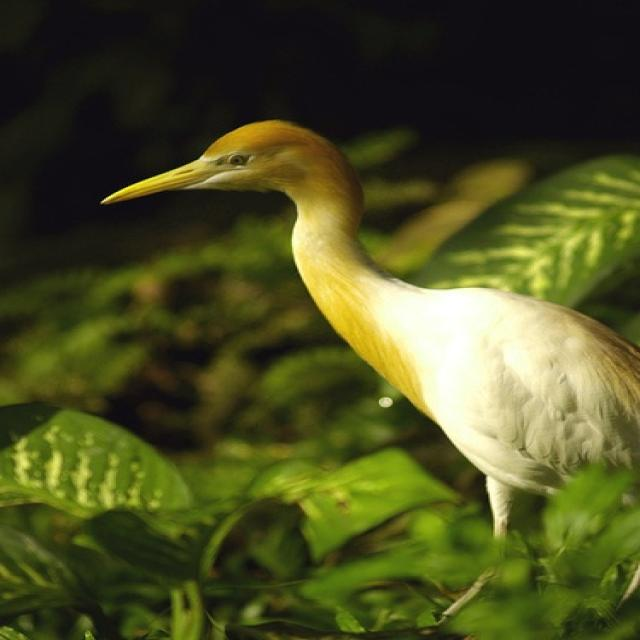bird: (94, 117, 636, 613)
